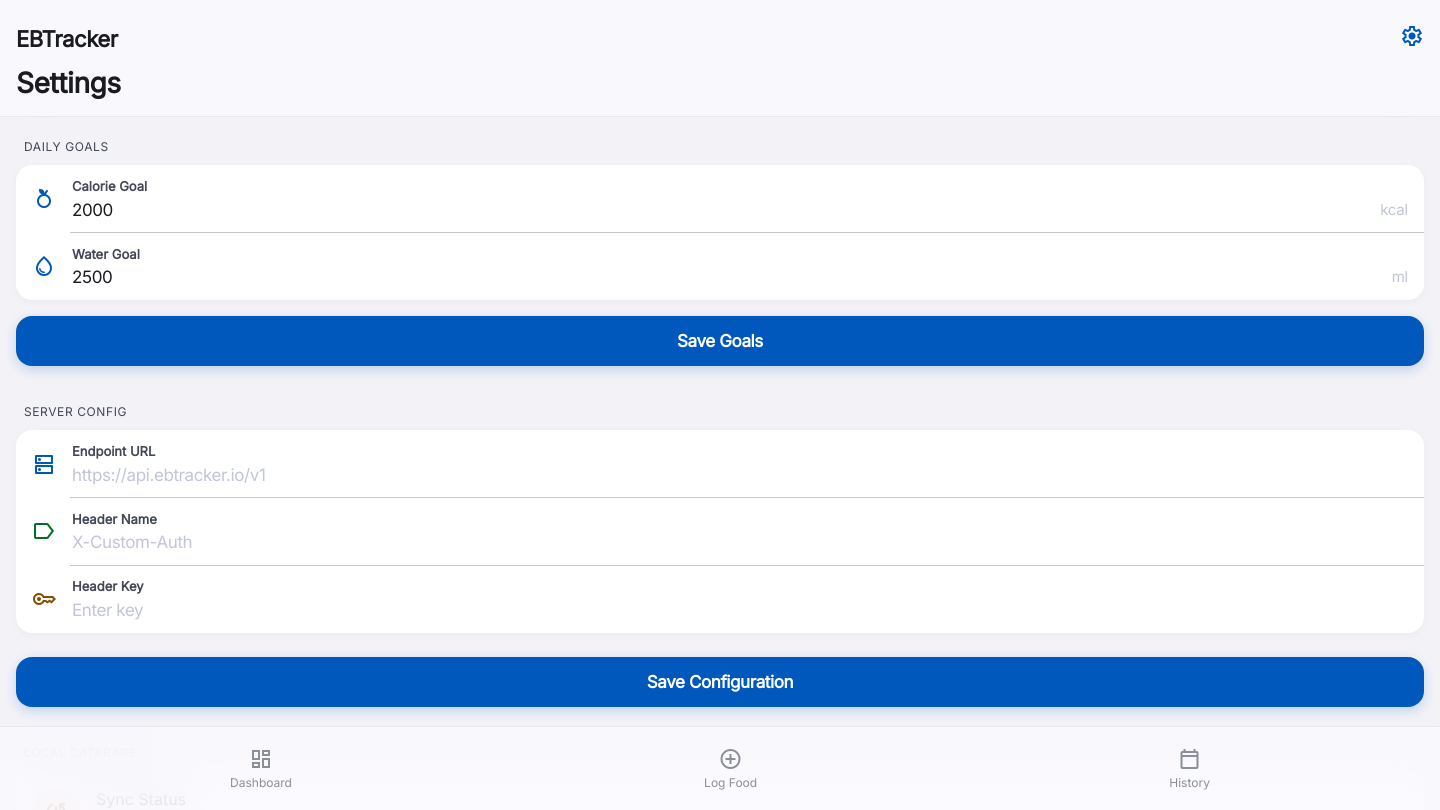
it: Settings Component › allows updating goals inputs and saving them
This screenshot has width=1440, height=810.
In the number field labelled "Calorie Goal": (722, 210) [72,198,1372,220], type "2200"
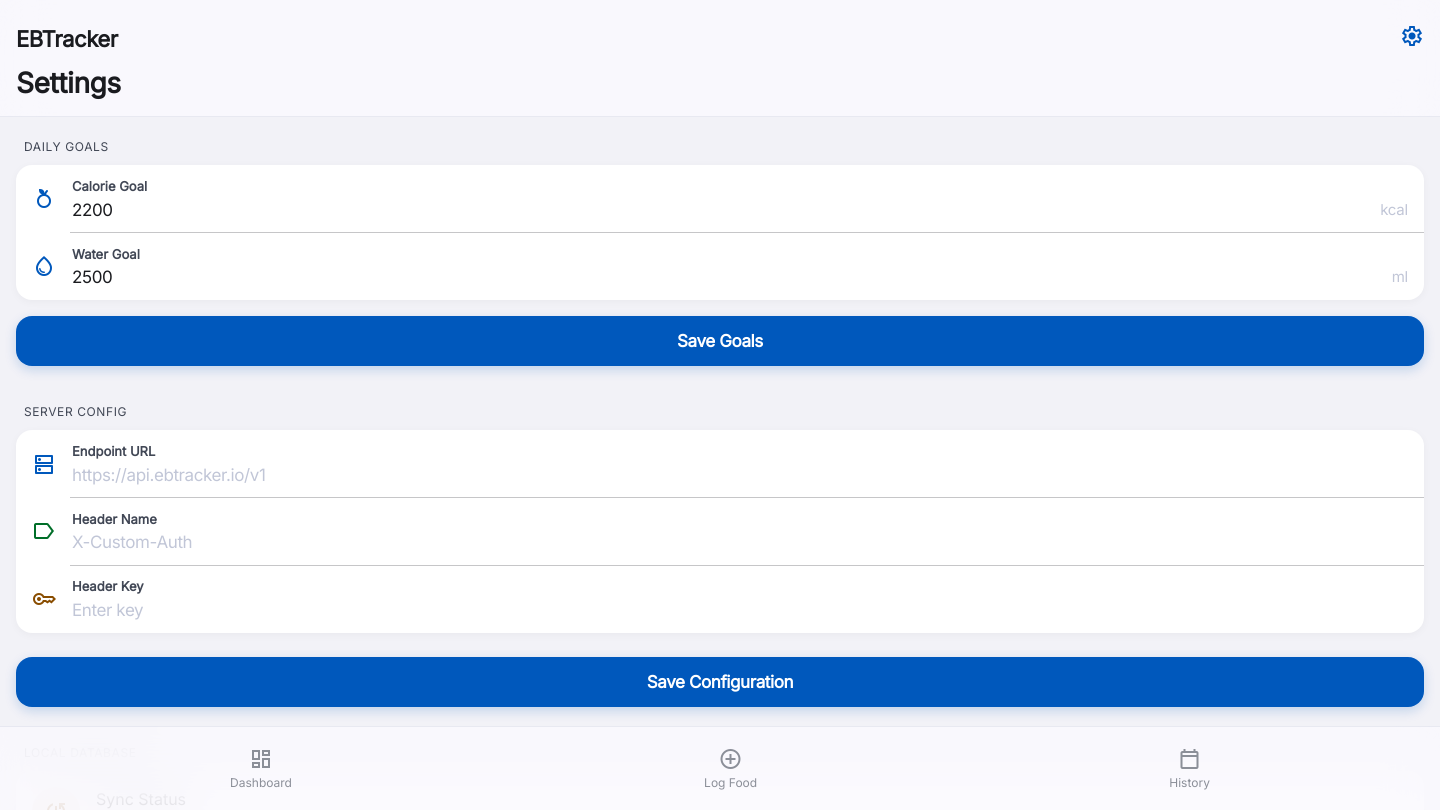
In the number field labelled "Water Goal": (728, 277) [72,266,1384,288], type "3000"
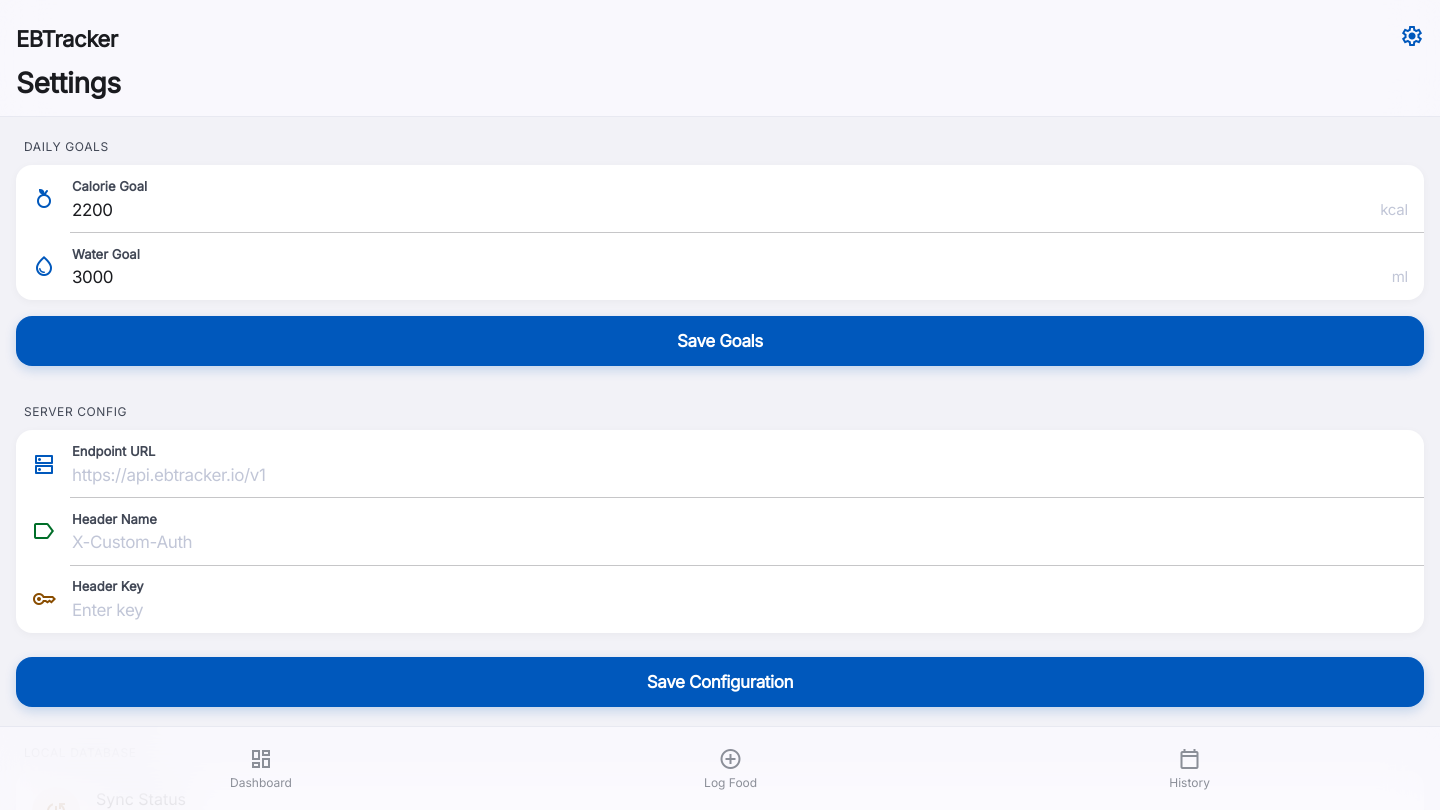
// Click Save Goals
Click the button "Save Goals": (720, 341) [16,316,1424,366]
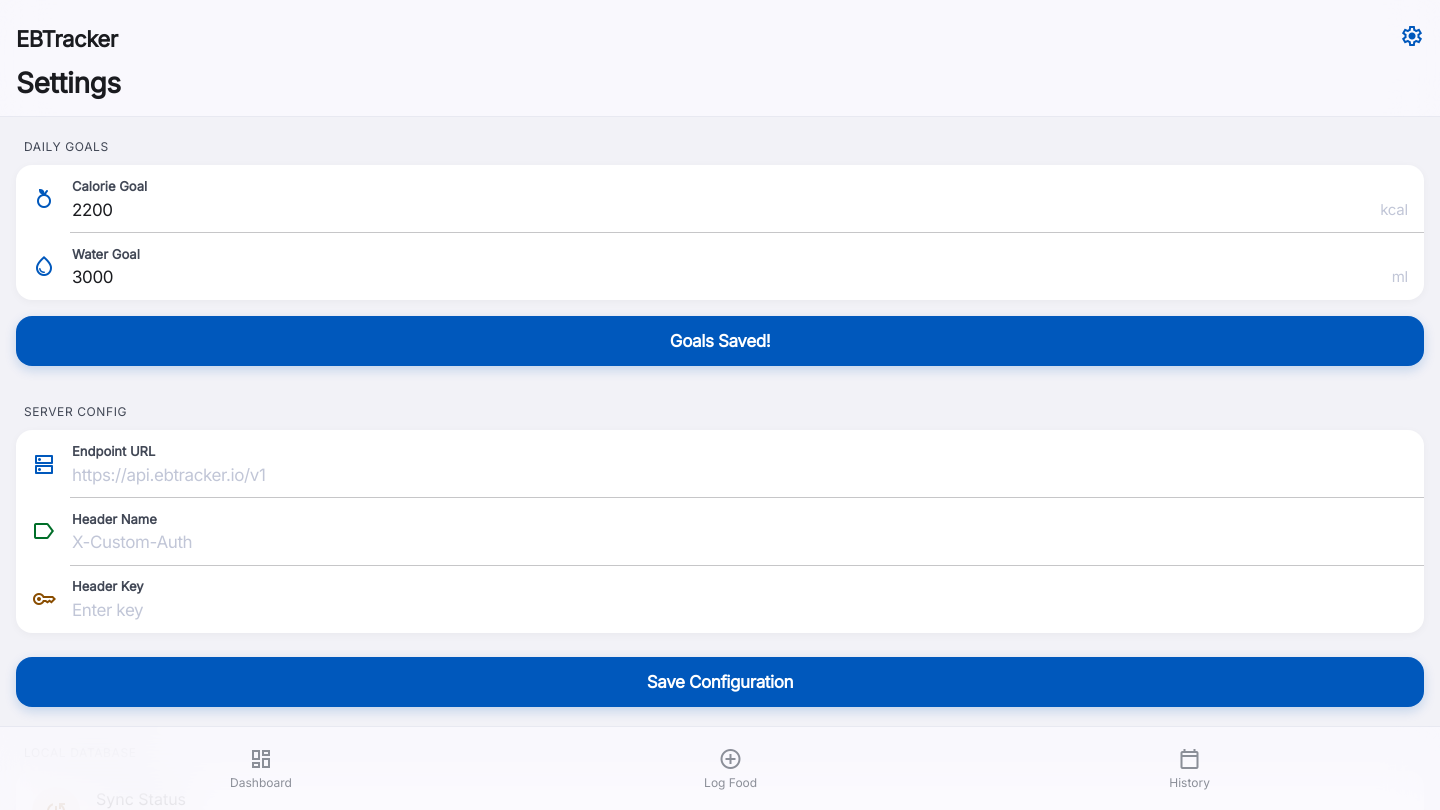
Result: the button "Goals Saved!" is shown at [16,316,1424,366]
